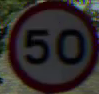Speed limit: (7, 6, 93, 83)
